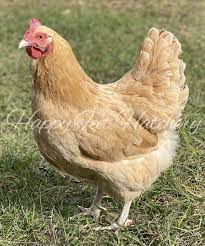buff: (18, 15, 163, 167)
